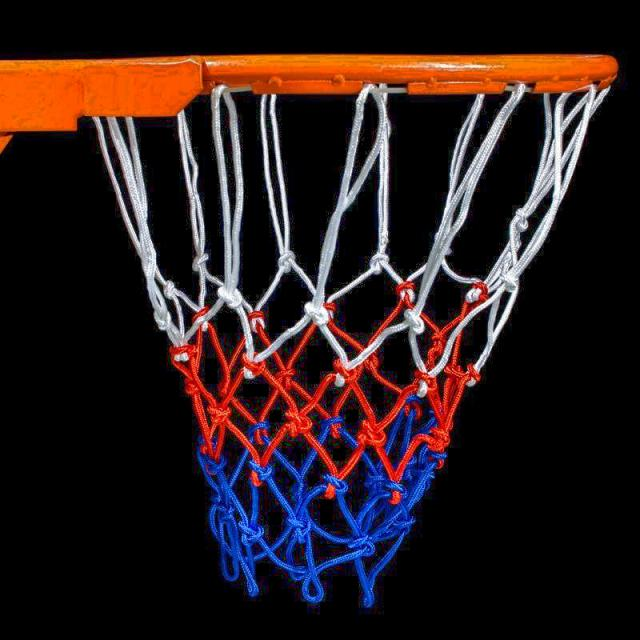rim: (88, 54, 626, 601)
